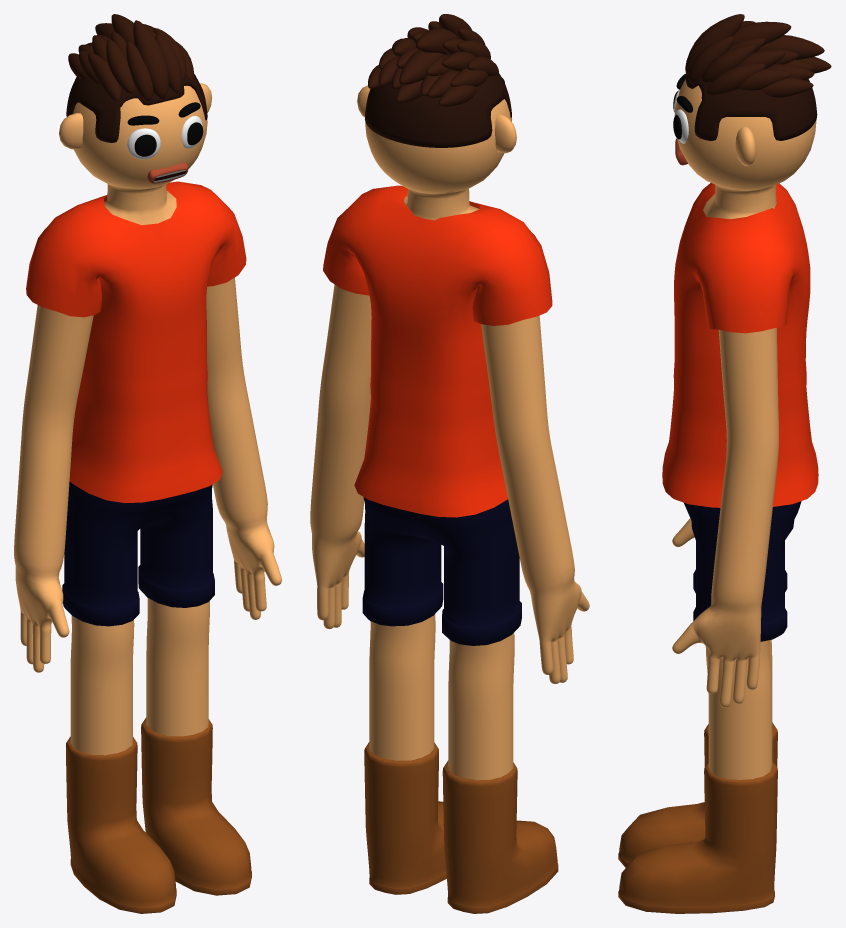
File: StylizedCharacter.obj
3 views of the same model, side by side, from view 1: azimuth 30°, elevation 25°; view 2: azimuth 150°, elevation 25°; view 3: azimuth 270°, elevation 25° (orthographic). The views are drawn at different scales.
Visible parts, largest first — view 1: BaseMesh_Vert.109, Shirt_01_Vert.002, Boots_01_Cube.023, Shorts_01_Vert.128, Hair_01_Cube.024, Face_Cube.004, Ears_Vert.123; view 2: BaseMesh_Vert.109, Shirt_01_Vert.002, Boots_01_Cube.023, Shorts_01_Vert.128, Hair_01_Cube.024, Ears_Vert.123; view 3: BaseMesh_Vert.109, Shirt_01_Vert.002, Boots_01_Cube.023, Hair_01_Cube.024, Shorts_01_Vert.128, Face_Cube.004, Ears_Vert.123.
Part boxes in pixels (x1,y1,x2,y2): BaseMesh_Vert.109: (14,85,281,755); Shirt_01_Vert.002: (26,181,246,502); Boots_01_Cube.023: (66,717,251,913); Shorts_01_Vert.128: (62,481,214,626); Hair_01_Cube.024: (66,14,207,142); Face_Cube.004: (127,102,203,183); Ears_Vert.123: (59,83,211,149); BaseMesh_Vert.109: (310,99,589,780); Shirt_01_Vert.002: (323,185,552,517); Boots_01_Cube.023: (364,742,558,913); Shorts_01_Vert.128: (362,497,521,645); Hair_01_Cube.024: (365,14,511,147); Ears_Vert.123: (357,85,516,153); BaseMesh_Vert.109: (672,79,816,779); Shirt_01_Vert.002: (662,183,818,507); Boots_01_Cube.023: (618,722,777,913); Hair_01_Cube.024: (685,14,831,140); Shorts_01_Vert.128: (684,501,801,641); Face_Cube.004: (673,73,692,165); Ears_Vert.123: (735,126,756,166).
Size of the model in its own units: 5.82 by 18.93 by 4.24.
